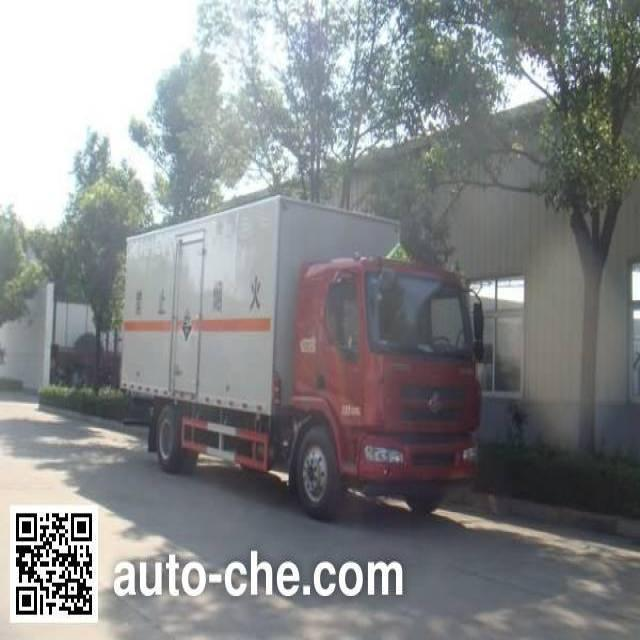covered: (111, 198, 461, 510)
